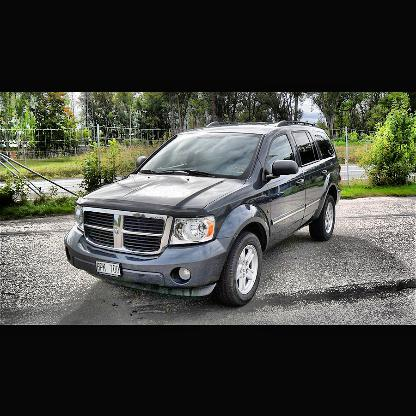Dodge Durango SUV 2007: (65, 120, 345, 307)
